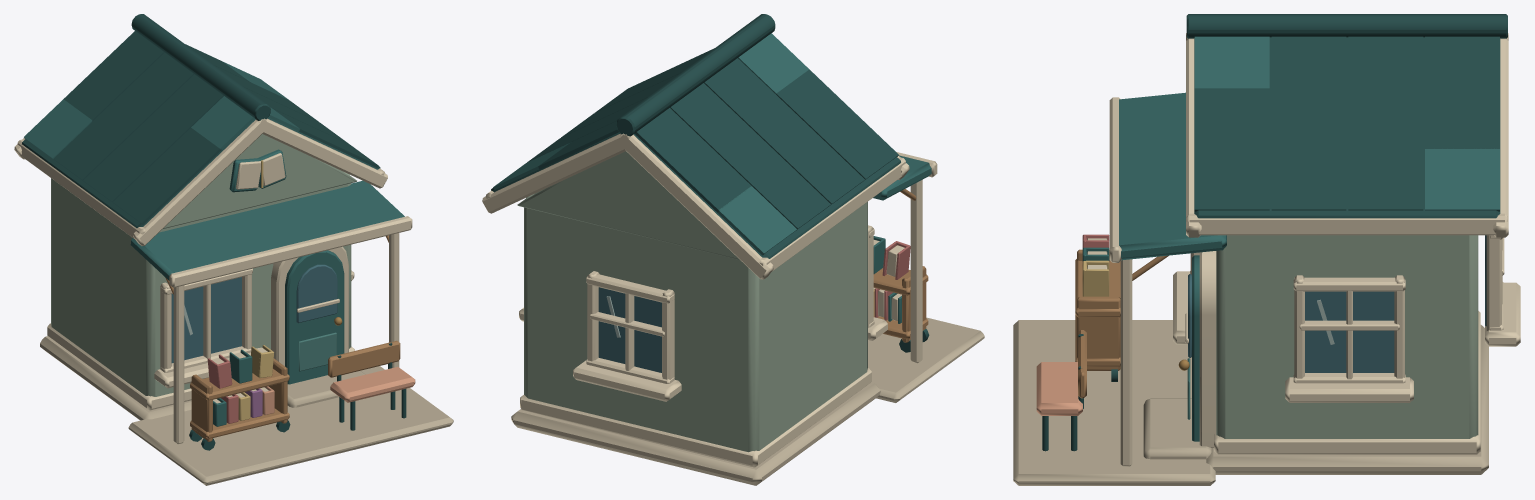
The model's file is bookshop_level_2.glb.
3 renders of one model, left to right at view 1: azimuth 30°, elevation 25°; view 2: azimuth 150°, elevation 25°; view 3: azimuth 270°, elevation 25°, orthographic. The views are drawn at different scales.
Parts seen in each view (by area): view 1: bookshop_level_2_runtime; view 2: bookshop_level_2_runtime; view 3: bookshop_level_2_runtime.
Boxes of the visible parts, x1,y1,x2,y2 form: bookshop_level_2_runtime: (14, 14, 453, 485); bookshop_level_2_runtime: (482, 14, 984, 485); bookshop_level_2_runtime: (1013, 14, 1520, 485).
Size of the model in its own units: 3.22 by 3.65 by 4.26.
